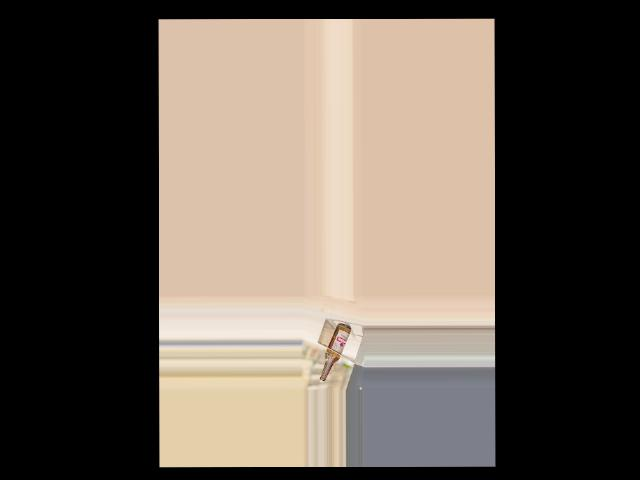beer: (318, 323, 351, 382)
